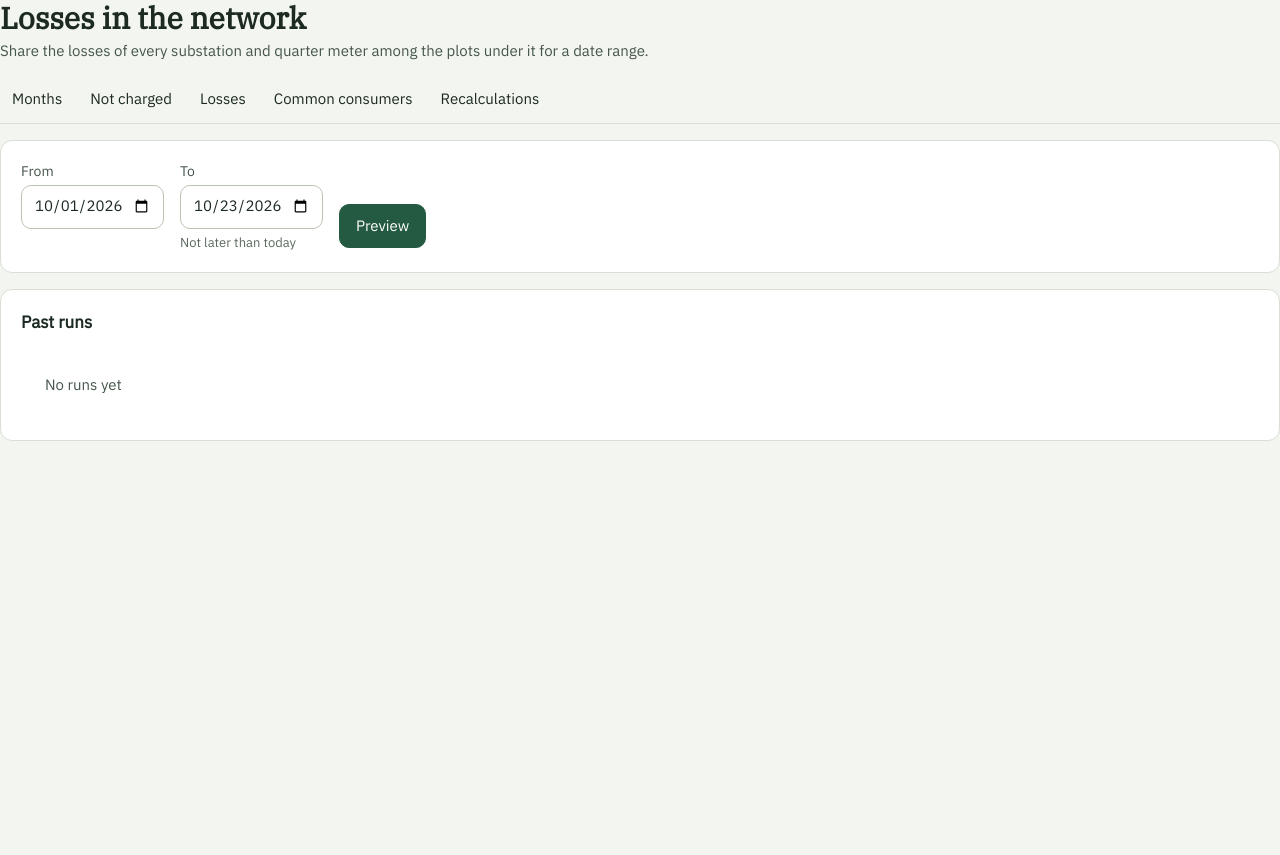
LossesPage › when a node was already charged for these days › shows the overlap refusal of a booking and offers a new preview
The width and height of the screenshot is (1280, 855).
What coordinates should you click on to do the following:
click the button "Preview"
I would click on:
 (383, 226)
Its box is [339,204,426,248].
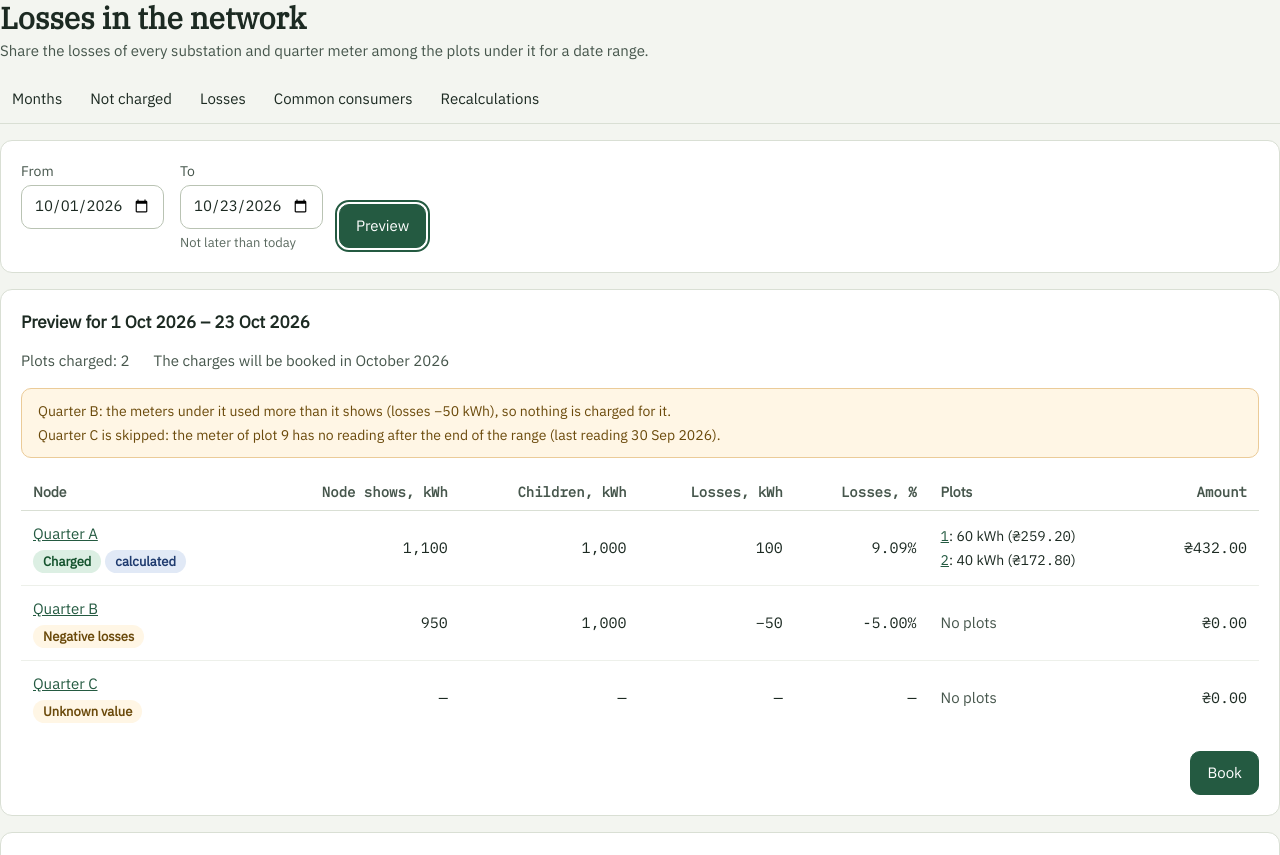
What coordinates should you click on to do the following:
click the button "Book"
I would click on:
 (1225, 773)
Its box is [1190,751,1259,795].
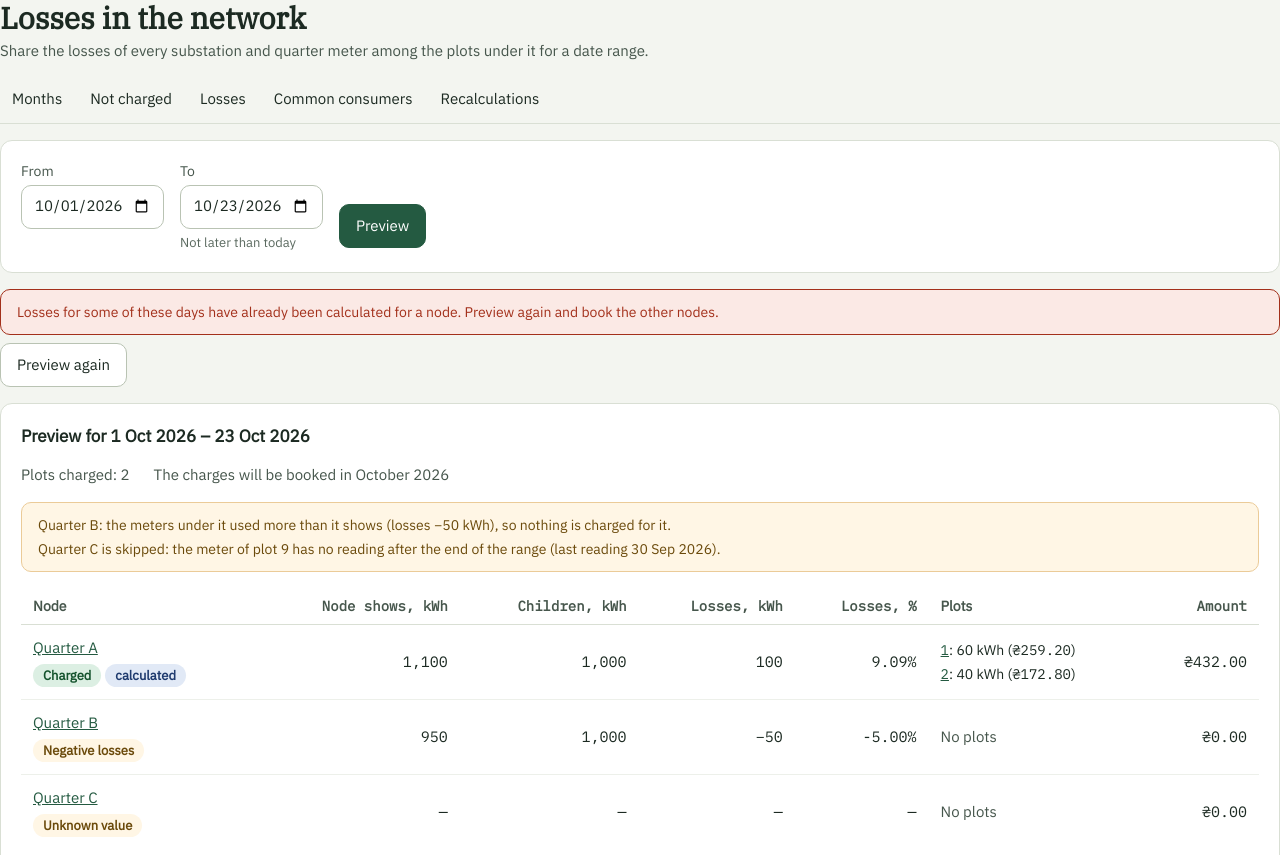
Result: the 1st message shows "have already been calculated for a node" at [17,303,719,321]
Result: the button "Preview again" is shown at [0,343,127,387]
